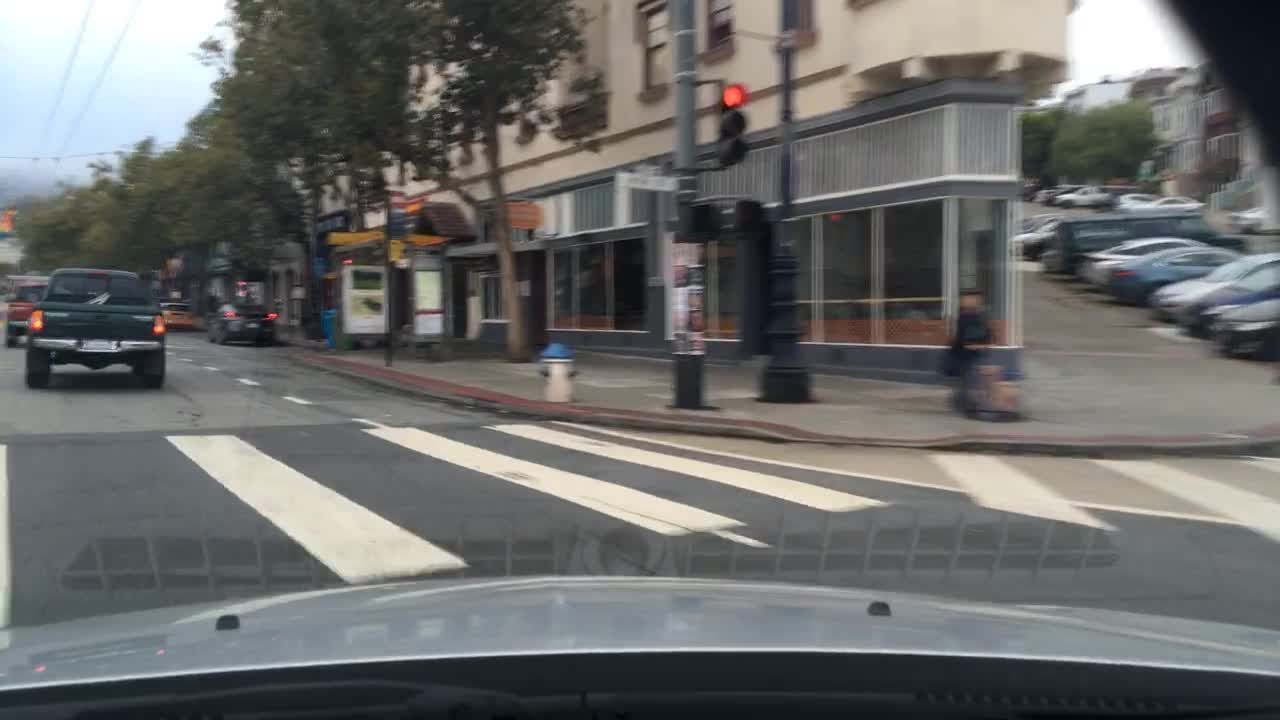car: (24, 267, 169, 388), (1046, 213, 1248, 265), (1079, 234, 1238, 291), (1152, 253, 1275, 318), (1106, 246, 1253, 300), (1188, 263, 1275, 328), (1016, 211, 1140, 255), (1215, 294, 1278, 351), (206, 300, 276, 345), (8, 274, 42, 347), (1053, 184, 1116, 206), (1126, 195, 1203, 213), (1032, 182, 1088, 206), (159, 300, 193, 328), (1102, 193, 1159, 206)
traffic light: (719, 82, 748, 165), (691, 202, 725, 239), (734, 196, 764, 233)
